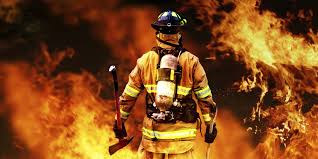emergent: (120, 10, 213, 159)
